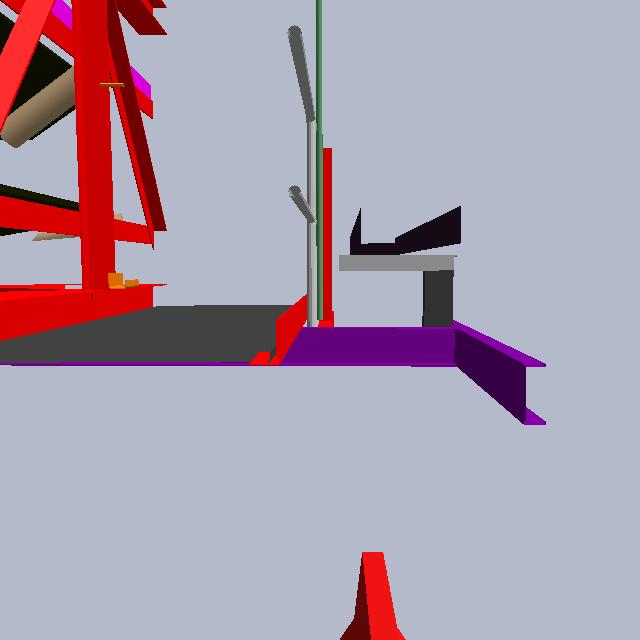Poste: (311, 1, 330, 332)
Soporte: (291, 132, 344, 339)
